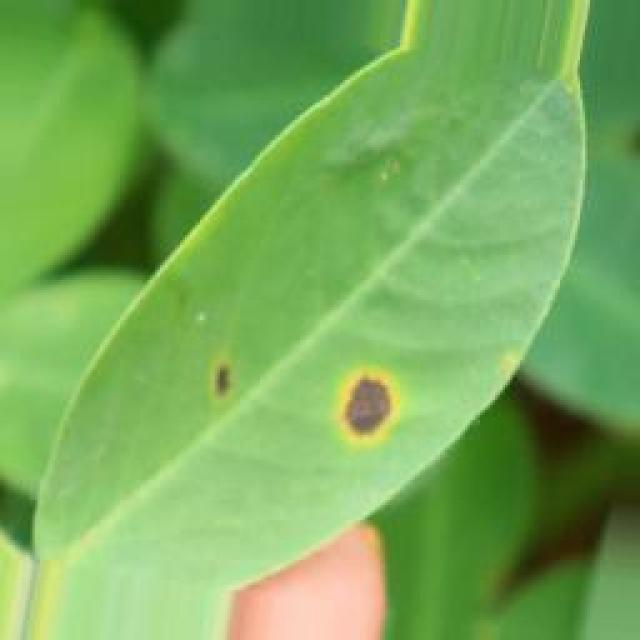Early_leaf_spot: (293, 334, 415, 471), (194, 324, 262, 413)
